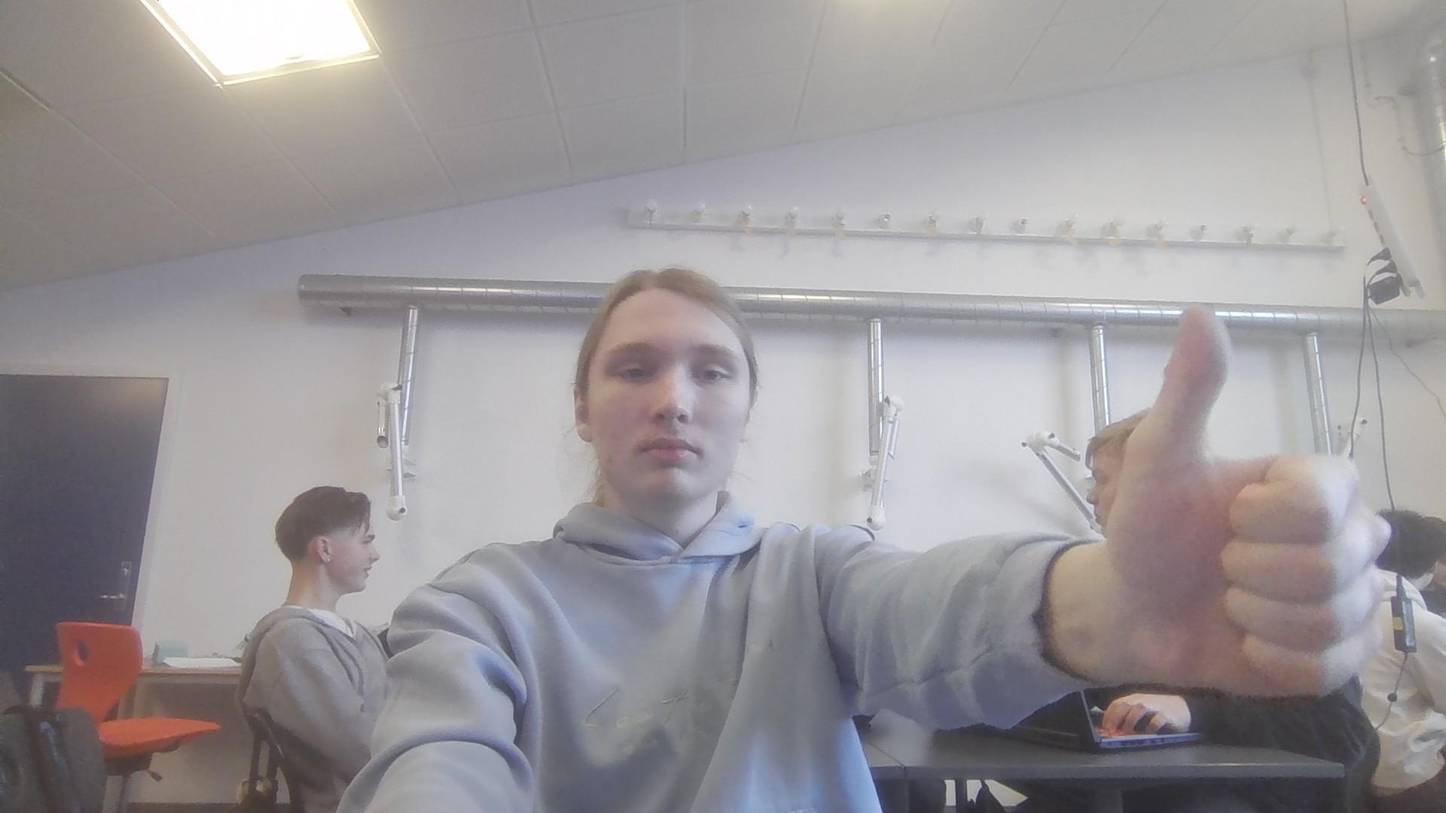thumbs up: (1115, 309, 1400, 714)
